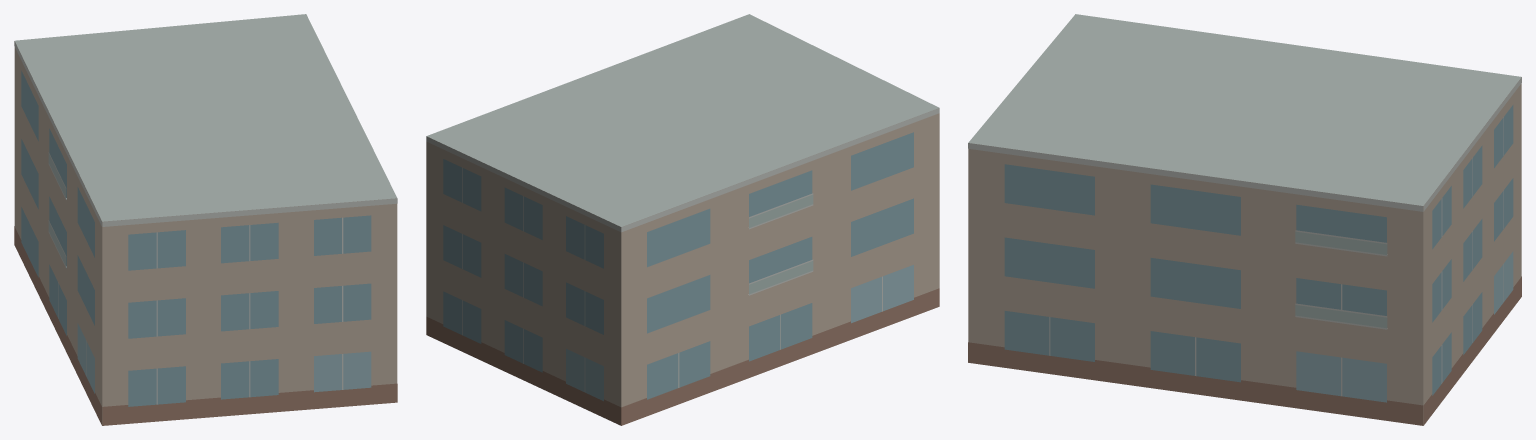
File: survey-upis-33033506.glb
The picture shows the model from 3 angles, left to right: view 1: azimuth 30°, elevation 25°; view 2: azimuth 150°, elevation 25°; view 3: azimuth 270°, elevation 25°; orthographic projection. The views are drawn at different scales.
Parts seen in each view (by area): view 1: survey-upis-33033506.tmp; view 2: survey-upis-33033506.tmp; view 3: survey-upis-33033506.tmp.
Part boxes in pixels (x1,y1,x2,y2): survey-upis-33033506.tmp: [14, 14, 397, 425]; survey-upis-33033506.tmp: [426, 14, 939, 425]; survey-upis-33033506.tmp: [968, 14, 1521, 425].
Bounding box in the file's own units: 17.16 × 9.15 × 20.9.
